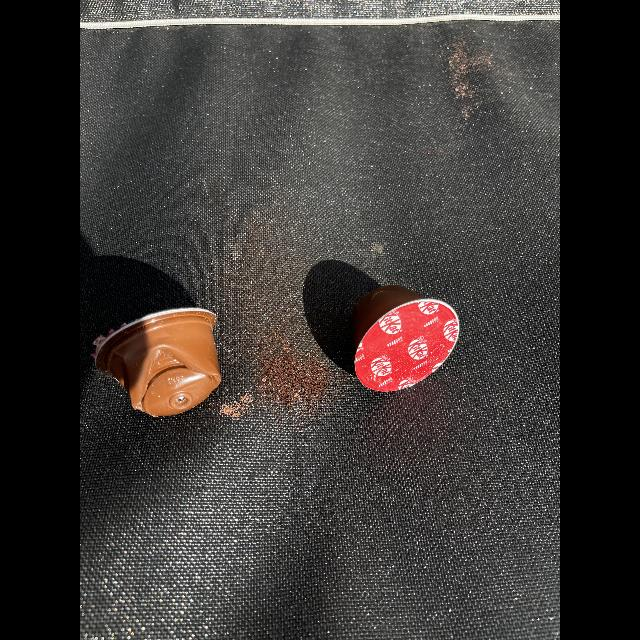damaged_capsule: (90, 298, 226, 424)
intact_capsule: (335, 277, 467, 399)
